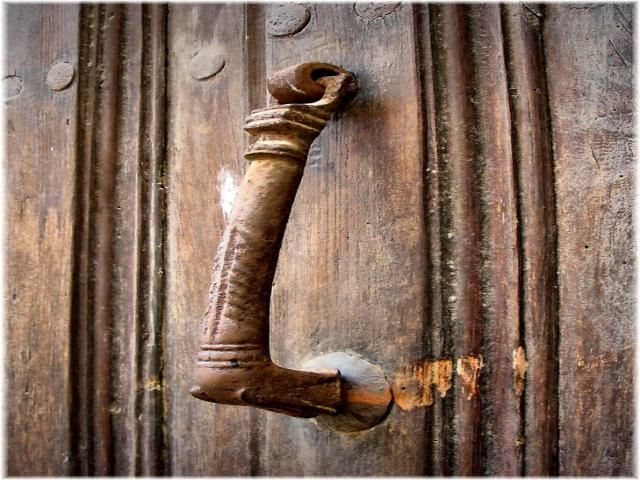Door-handle: (187, 60, 398, 434)
